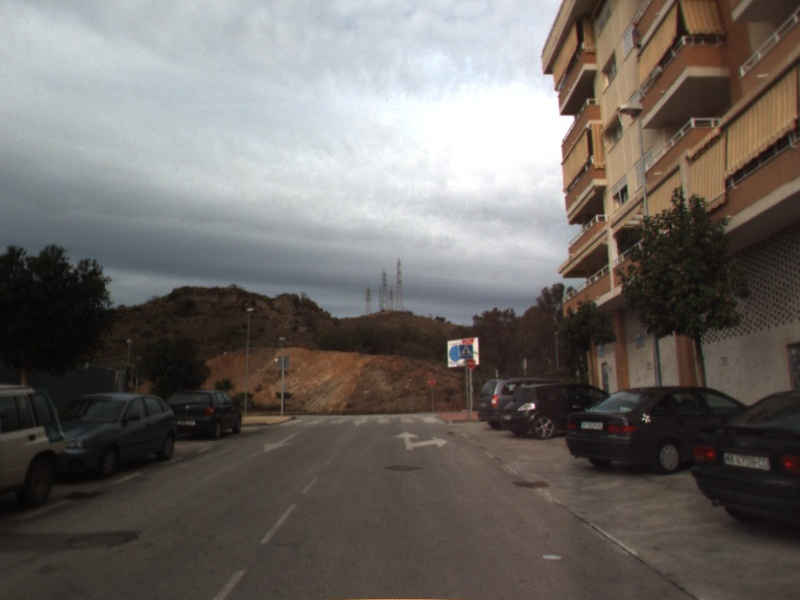STRAIGHT_RIGHT: (391, 429, 451, 452)
